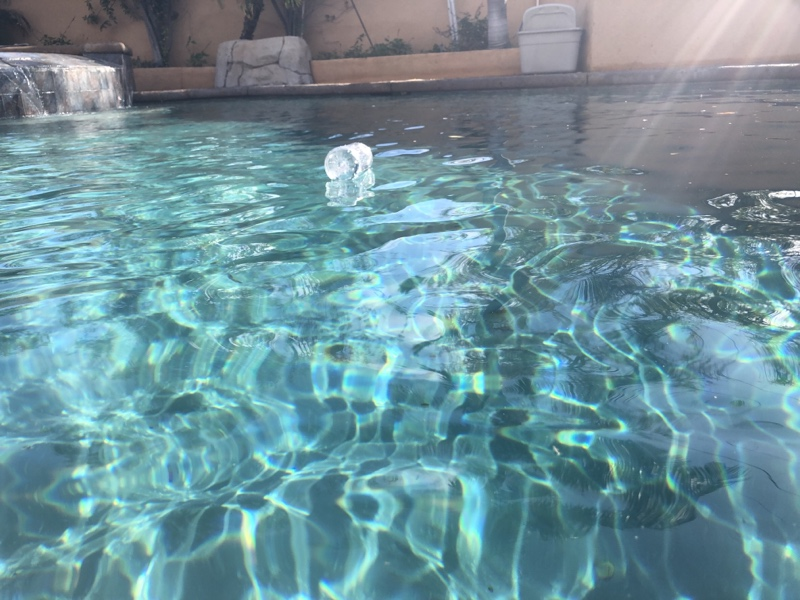Plastic Bottle: (321, 139, 378, 184)
